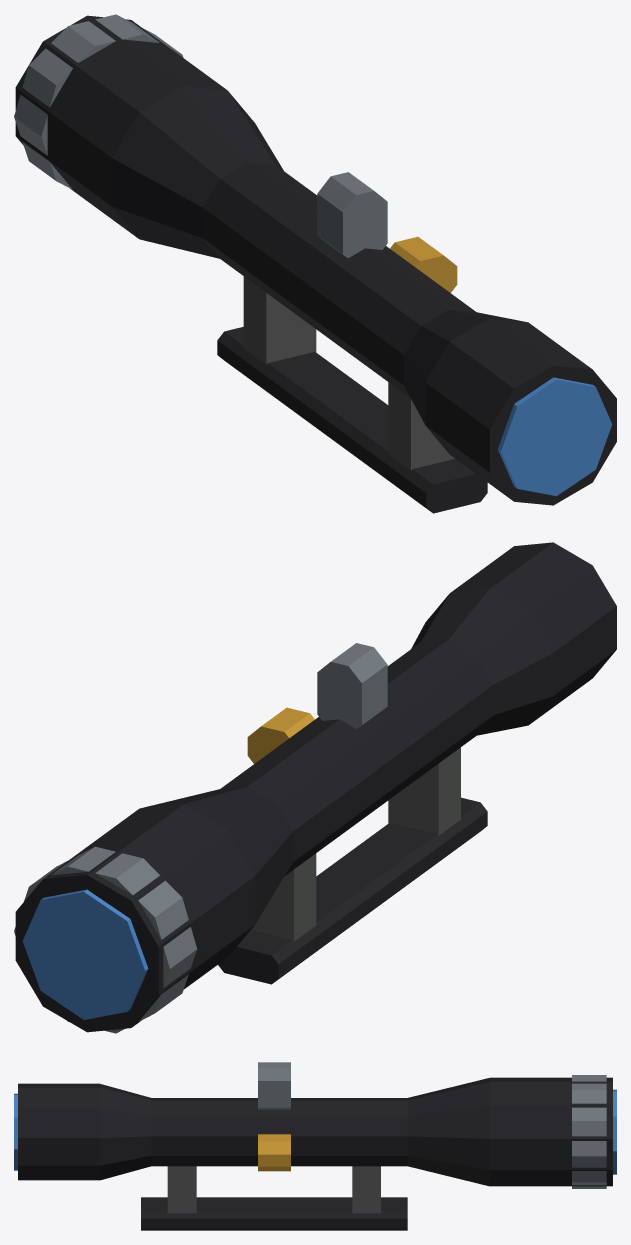
Rendered from scope_4x.glb.
3 views of the same model, one above another, from view 1: azimuth 30°, elevation 25°; view 2: azimuth 150°, elevation 25°; view 3: azimuth 270°, elevation 25° (orthographic). The views are drawn at different scales.
Parts seen in each view (by area): view 1: scope_4x; view 2: scope_4x; view 3: scope_4x.
Part boxes in pixels (x1,y1,x2,y2): scope_4x: [14, 14, 616, 513]; scope_4x: [14, 542, 616, 1033]; scope_4x: [14, 1062, 616, 1230].
Bounding box in the file's own units: 0.061 × 0.085 × 0.294.
Materials: 1 (1 with a texture image).
